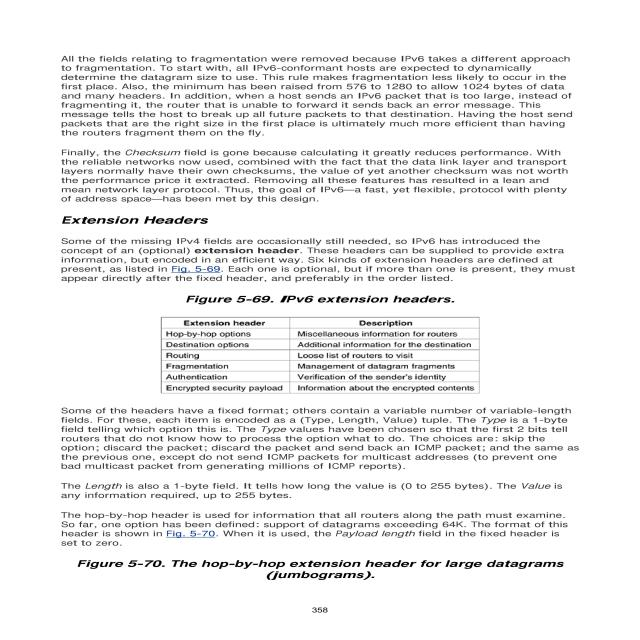diagram: (134, 289, 508, 399)
